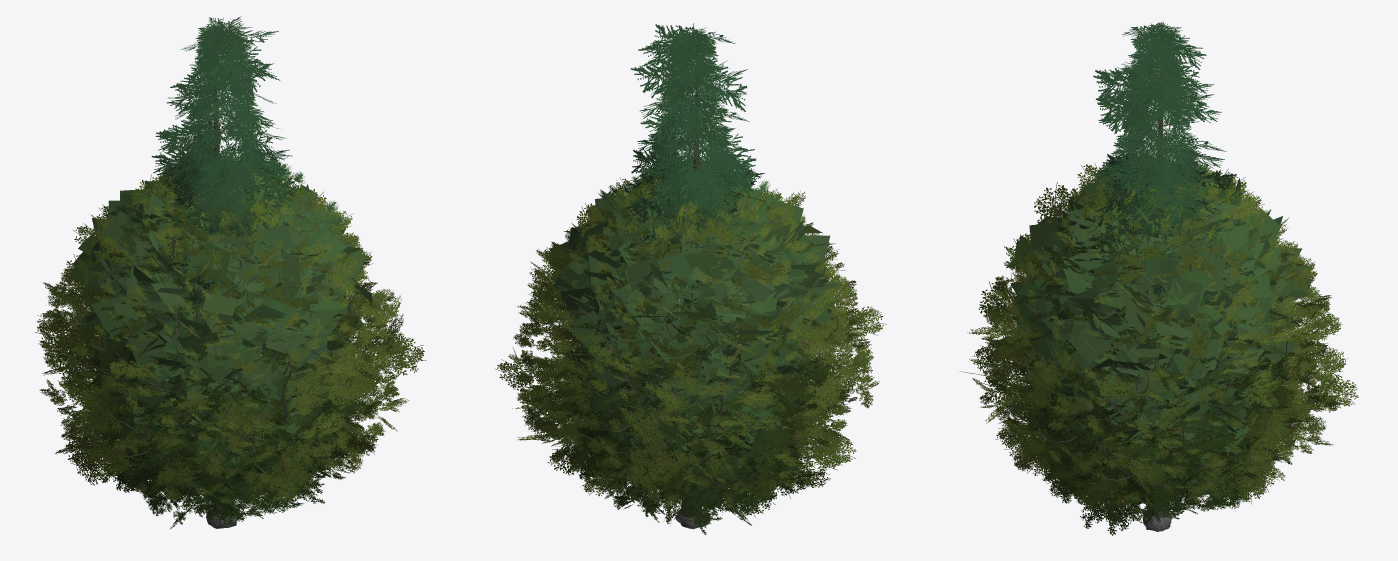
File: forest.glb
The picture shows the model from 3 angles, left to right: view 1: azimuth 30°, elevation 25°; view 2: azimuth 150°, elevation 25°; view 3: azimuth 270°, elevation 25°; orthographic projection.
Visible parts, largest first — view 1: kusu_near_leaves, kusu_far_leaves, keyaki_s9_far_leaves, sugi_far_leaves, keyaki_s9_near_leaves, sugi_near_leaves, enoki_near_leaves, matsu_far_leaves, enoki_far_leaves, sakura_near_leaves, keyaki_s8_far_leaves, shii_near_leaves (+7 smaller); view 2: kusu_near_leaves, kusu_far_leaves, keyaki_s9_far_leaves, sugi_far_leaves, keyaki_s9_near_leaves, sugi_near_leaves, enoki_near_leaves, enoki_far_leaves, matsu_far_leaves, shii_near_leaves, shii_far_leaves, sakura_near_leaves (+7 smaller); view 3: kusu_near_leaves, kusu_far_leaves, keyaki_s9_far_leaves, sugi_far_leaves, keyaki_s9_near_leaves, sugi_near_leaves, enoki_near_leaves, keyaki_s8_far_leaves, shii_far_leaves, matsu_far_leaves, enoki_far_leaves, shii_near_leaves (+7 smaller).
Boxes of the visible parts, left/top/right/bottom form: kusu_near_leaves: left=38, top=175, right=410, bottom=504; kusu_far_leaves: left=35, top=156, right=426, bottom=505; keyaki_s9_far_leaves: left=69, top=176, right=372, bottom=480; sugi_far_leaves: left=151, top=16, right=304, bottom=407; keyaki_s9_near_leaves: left=85, top=200, right=360, bottom=444; sugi_near_leaves: left=170, top=17, right=271, bottom=292; enoki_near_leaves: left=82, top=313, right=362, bottom=512; matsu_far_leaves: left=114, top=151, right=344, bottom=326; enoki_far_leaves: left=78, top=283, right=370, bottom=508; sakura_near_leaves: left=100, top=411, right=337, bottom=524; keyaki_s8_far_leaves: left=101, top=281, right=348, bottom=497; shii_near_leaves: left=89, top=280, right=355, bottom=508; kusu_near_leaves: left=508, top=177, right=879, bottom=508; kusu_far_leaves: left=494, top=164, right=886, bottom=524; keyaki_s9_far_leaves: left=545, top=179, right=842, bottom=468; sugi_far_leaves: left=615, top=23, right=776, bottom=377; keyaki_s9_near_leaves: left=557, top=203, right=829, bottom=439; sugi_near_leaves: left=642, top=27, right=741, bottom=352; enoki_near_leaves: left=555, top=307, right=830, bottom=515; enoki_far_leaves: left=544, top=280, right=837, bottom=514; matsu_far_leaves: left=582, top=157, right=812, bottom=322; shii_near_leaves: left=566, top=299, right=821, bottom=506; shii_far_leaves: left=552, top=293, right=826, bottom=499; sakura_near_leaves: left=573, top=417, right=814, bottom=524; kusu_near_leaves: left=969, top=176, right=1340, bottom=509; kusu_far_leaves: left=960, top=161, right=1358, bottom=514; keyaki_s9_far_leaves: left=1006, top=163, right=1311, bottom=466; sugi_far_leaves: left=1075, top=22, right=1236, bottom=404; keyaki_s9_near_leaves: left=1026, top=198, right=1296, bottom=438; sugi_near_leaves: left=1105, top=21, right=1209, bottom=372; enoki_near_leaves: left=1018, top=317, right=1297, bottom=514; keyaki_s8_far_leaves: left=1051, top=285, right=1280, bottom=495; shii_far_leaves: left=1016, top=265, right=1295, bottom=516; matsu_far_leaves: left=1044, top=156, right=1279, bottom=328; enoki_far_leaves: left=1011, top=293, right=1291, bottom=514; shii_near_leaves: left=1028, top=304, right=1287, bottom=503.
Bounding box in the file's own units: 24.06 × 31.32 × 24.95.
Materials: 5 (4 with a texture image).
